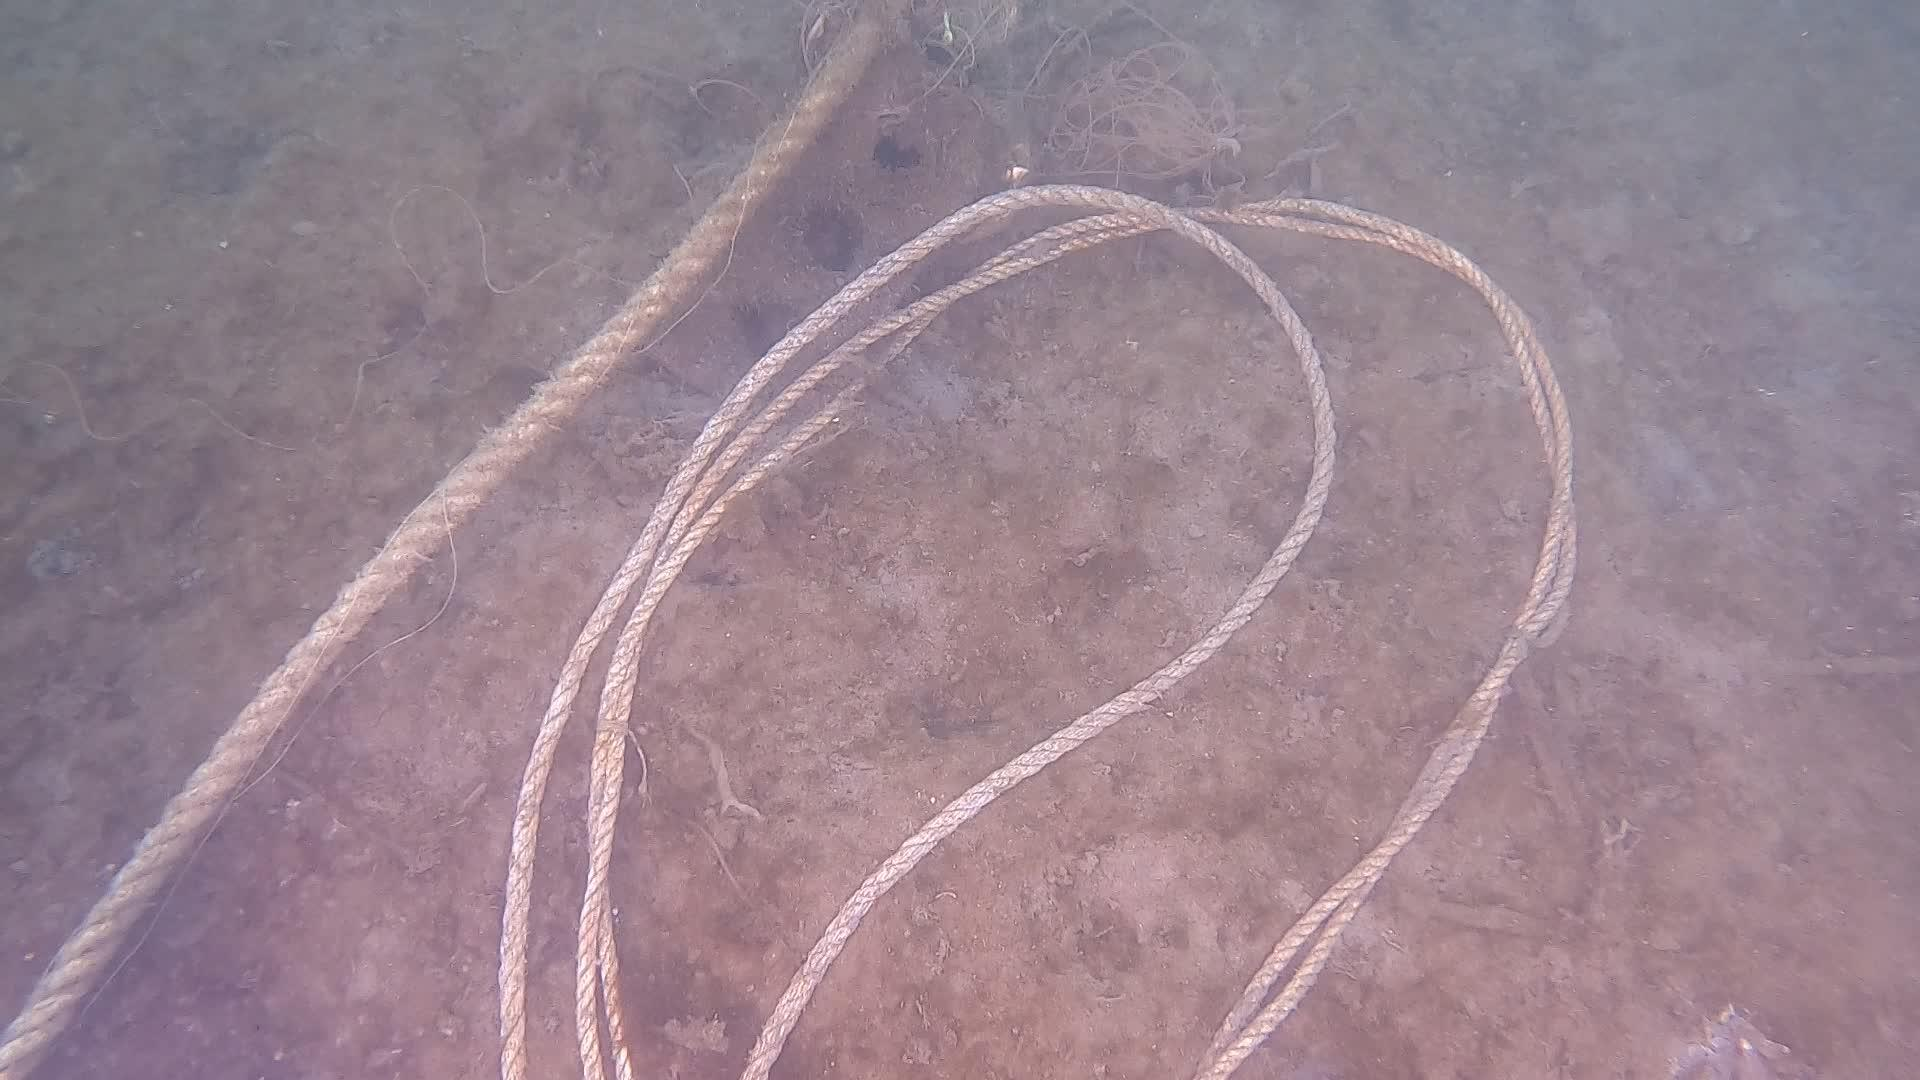bundle of ropes: (491, 179, 1585, 1080)
rope: (0, 0, 882, 1079)
